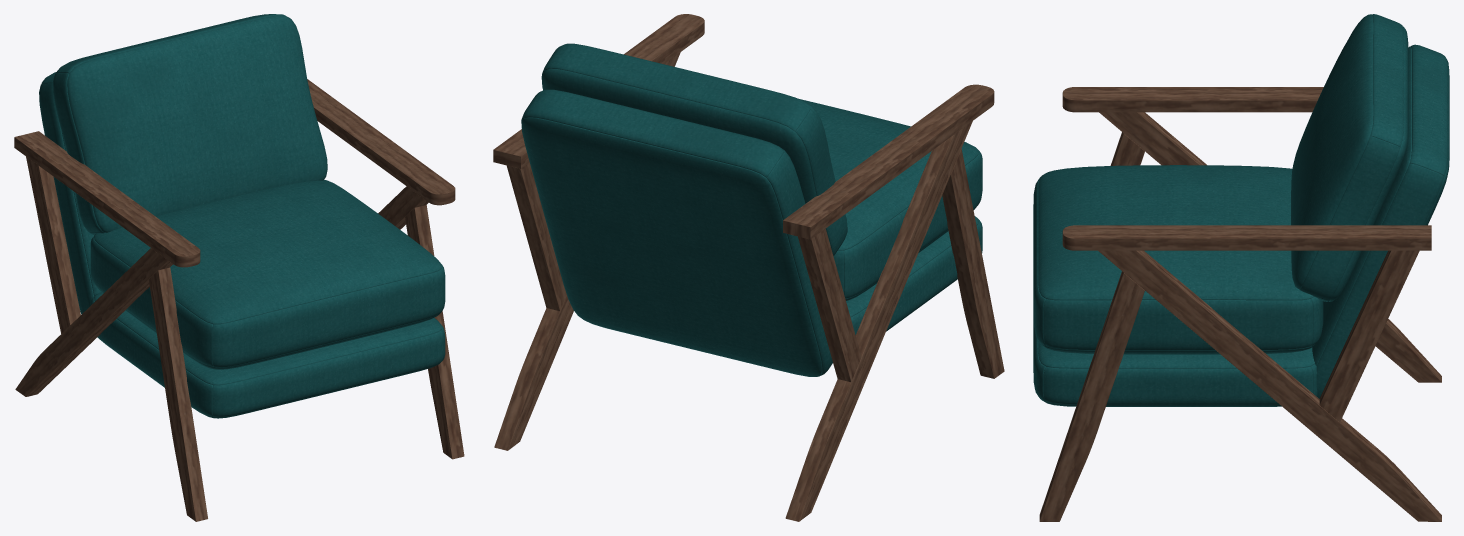
The model's file is chair_20.001.fbx.
3 views of the same model, side by side, from view 1: azimuth 30°, elevation 25°; view 2: azimuth 150°, elevation 25°; view 3: azimuth 270°, elevation 25° (orthographic). The views are drawn at different scales.
Visible parts, largest first — view 1: chair_20.001; view 2: chair_20.001; view 3: chair_20.001.
Boxes of the visible parts, x1,y1,x2,y2 form: chair_20.001: [14, 14, 464, 521]; chair_20.001: [493, 14, 1004, 521]; chair_20.001: [1033, 14, 1449, 521].
Bounding box in the file's own units: 70.01 × 81.91 × 81.16.
Materials: 1 (1 with a texture image).
